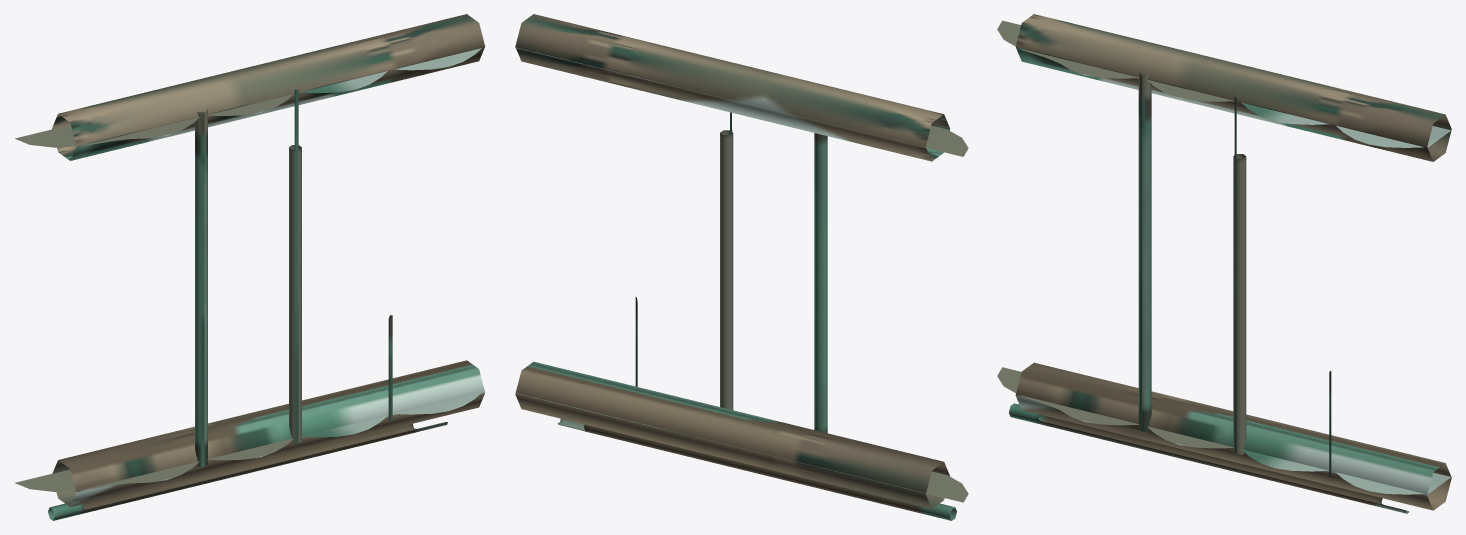
Rendered from section-4.obj.
3 renders of one model, left to right at view 1: azimuth 30°, elevation 25°; view 2: azimuth 150°, elevation 25°; view 3: azimuth 330°, elevation 25°, orthographic.
Bounding box in the file's own units: 0.95 × 0.8072 × 0.13.
